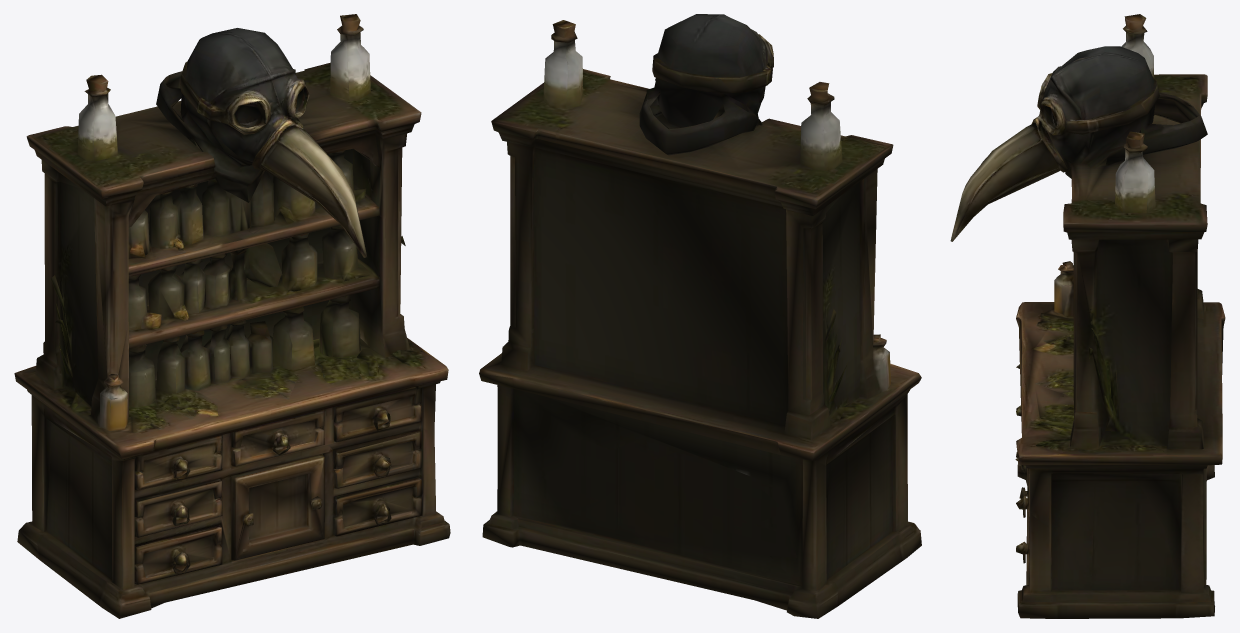
Rendered from DocShelf.opt.glb.
3 views of the same model, side by side, from view 1: azimuth 30°, elevation 25°; view 2: azimuth 150°, elevation 25°; view 3: azimuth 270°, elevation 25° (orthographic). The views are drawn at different scales.
Parts seen in each view (by area): view 1: node_0; view 2: node_0; view 3: node_0.
Boxes of the visible parts, x1,y1,x2,y2 form: node_0: [14, 14, 450, 618]; node_0: [479, 14, 921, 618]; node_0: [950, 14, 1225, 618].
Size of the model in its own units: 0.633 by 0.9317 by 0.4752.
Materials: 1 (1 with a texture image).
